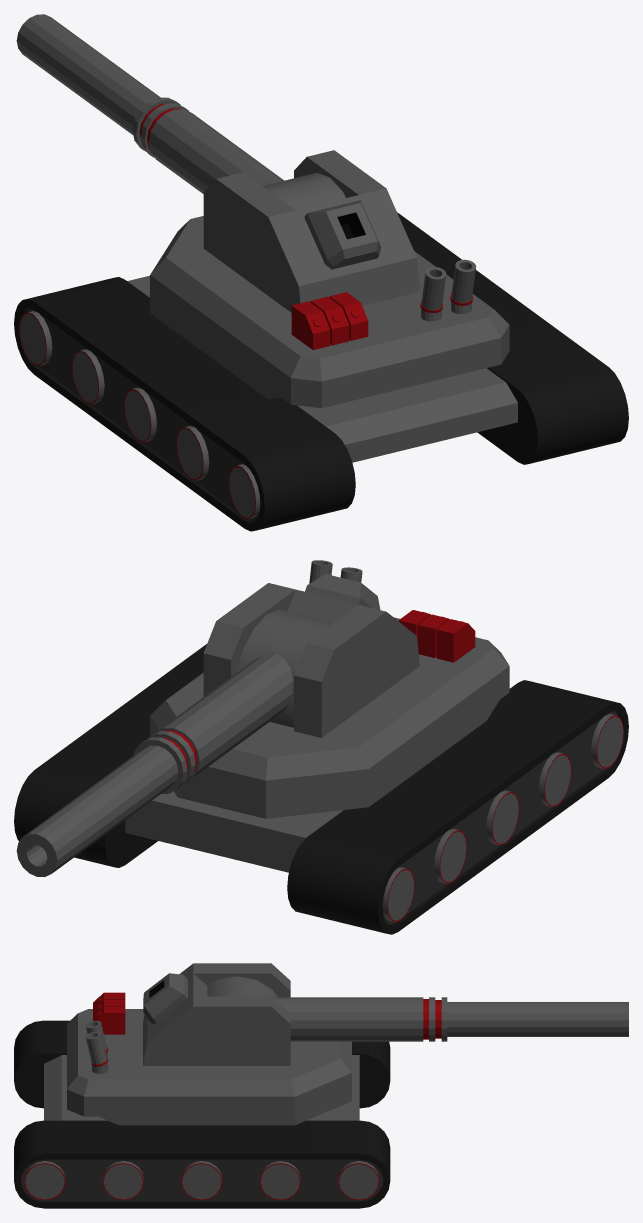
File: LRC Artillery.glb
3 views of the same model, one above another, from view 1: azimuth 30°, elevation 25°; view 2: azimuth 150°, elevation 25°; view 3: azimuth 270°, elevation 25° (orthographic). The views are drawn at different scales.
Visible parts, largest first — view 1: Tracks, Turret_Base, Turret, Base, Track_Wheels, Barrel.001, Barrel, Jerry cans, Cylinder, Barrel_Elevation; view 2: Tracks, Turret_Base, Turret, Barrel, Base, Barrel.001, Track_Wheels, Barrel_Elevation, Jerry cans, Cylinder; view 3: Tracks, Turret_Base, Turret, Barrel, Track_Wheels, Barrel.001, Base, Jerry cans, Barrel_Elevation, Cylinder.
Boxes of the visible parts, x1,y1,x2,y2 form: Tracks: (14,212,628,531); Turret_Base: (150,216,509,408); Turret: (203,150,419,312); Base: (127,275,517,462); Track_Wheels: (19,311,260,519); Barrel.001: (16,14,160,134); Barrel: (132,97,283,193); Jerry cans: (291,292,368,349); Cylinder: (420,259,476,321); Barrel_Elevation: (263,173,345,210); Tracks: (14,644,628,934); Turret_Base: (150,617,509,818); Turret: (203,574,419,737); Barrel: (133,653,292,793); Base: (125,791,343,872); Barrel.001: (16,745,178,876); Track_Wheels: (382,714,623,922); Barrel_Elevation: (236,609,333,727); Jerry cans: (398,610,475,662); Cylinder: (309,560,362,583); Tracks: (14,1020,390,1208); Turret_Base: (67,1009,351,1125); Turret: (143,963,290,1065); Barrel: (273,997,447,1041); Track_Wheels: (24,1161,379,1200); Barrel.001: (447,1002,628,1036); Base: (44,1055,359,1120); Jerry cans: (93,992,125,1034); Barrel_Elevation: (207,976,277,997); Cylinder: (85,1020,108,1073).
Size of the model in its own units: 2.51 by 1.41 by 4.84.
